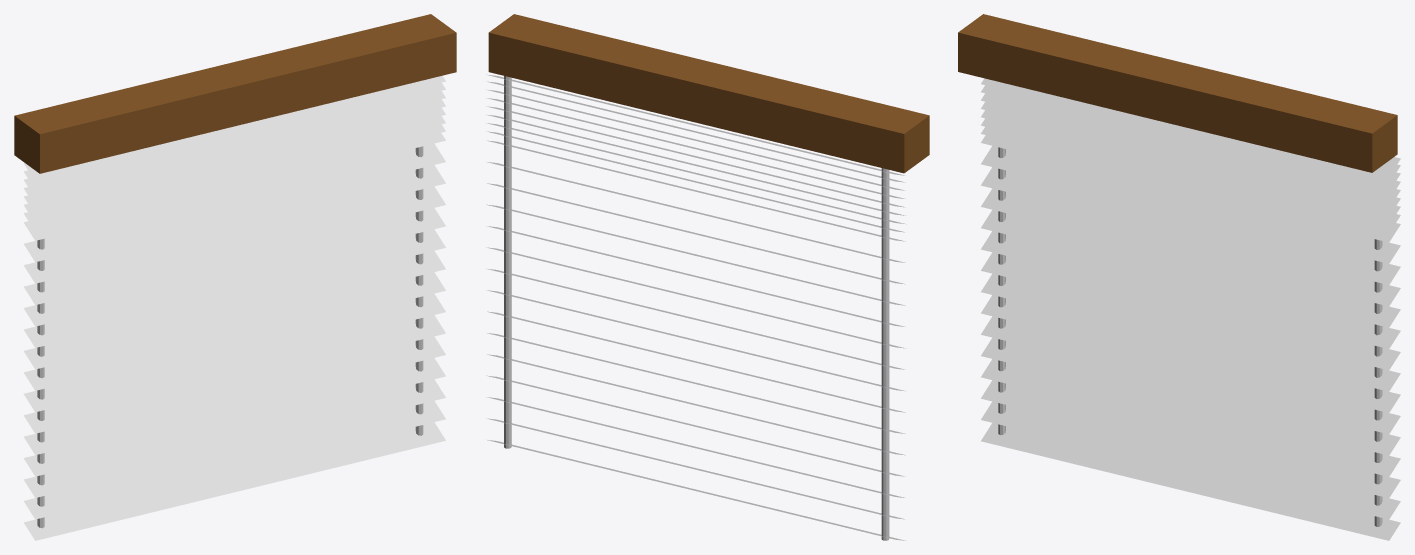
Rendered from decor_blind2.fbx.
3 renders of one model, left to right at view 1: azimuth 30°, elevation 25°; view 2: azimuth 150°, elevation 25°; view 3: azimuth 330°, elevation 25°, orthographic.
Parts seen in each view (by area): view 1: decor_blind2; view 2: decor_blind2; view 3: decor_blind2.
Boxes of the visible parts, box(x1,y1,x2,y2) form: decor_blind2: box(14, 14, 456, 540); decor_blind2: box(486, 14, 929, 540); decor_blind2: box(958, 14, 1400, 540).
Size of the model in its own units: 89.87 by 85.64 by 9.45.
